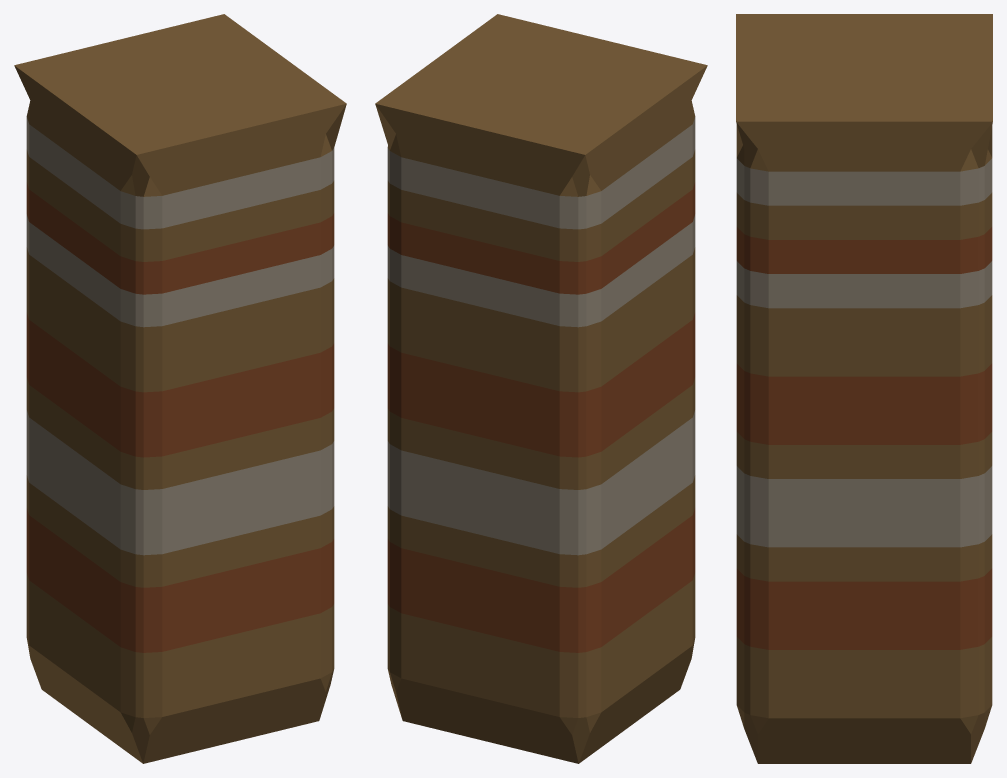
File: squarePillar.fbx
3 renders of one model, left to right at view 1: azimuth 30°, elevation 25°; view 2: azimuth 150°, elevation 25°; view 3: azimuth 270°, elevation 25°, orthographic. The views are drawn at different scales.
Visible parts, largest first — view 1: Cube.003; view 2: Cube.003; view 3: Cube.003.
Part boxes in pixels (x1,y1,x2,y2): Cube.003: (14, 14, 346, 763); Cube.003: (375, 14, 707, 763); Cube.003: (736, 14, 992, 763).
Bounding box in the file's own units: 200 × 562 × 201.
